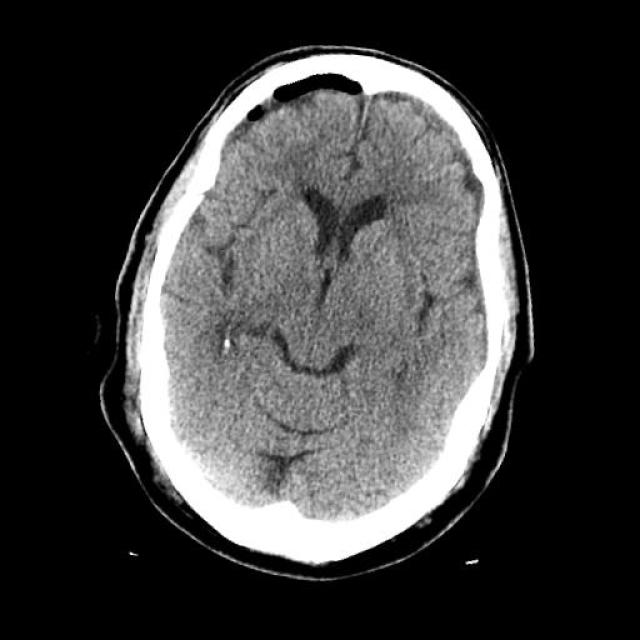Subdural: (370, 68, 486, 190)
